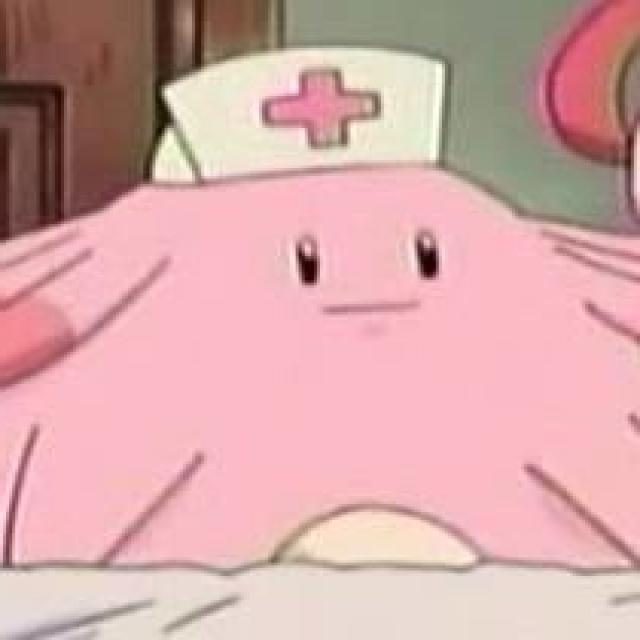Chansey: (0, 156, 640, 575)
